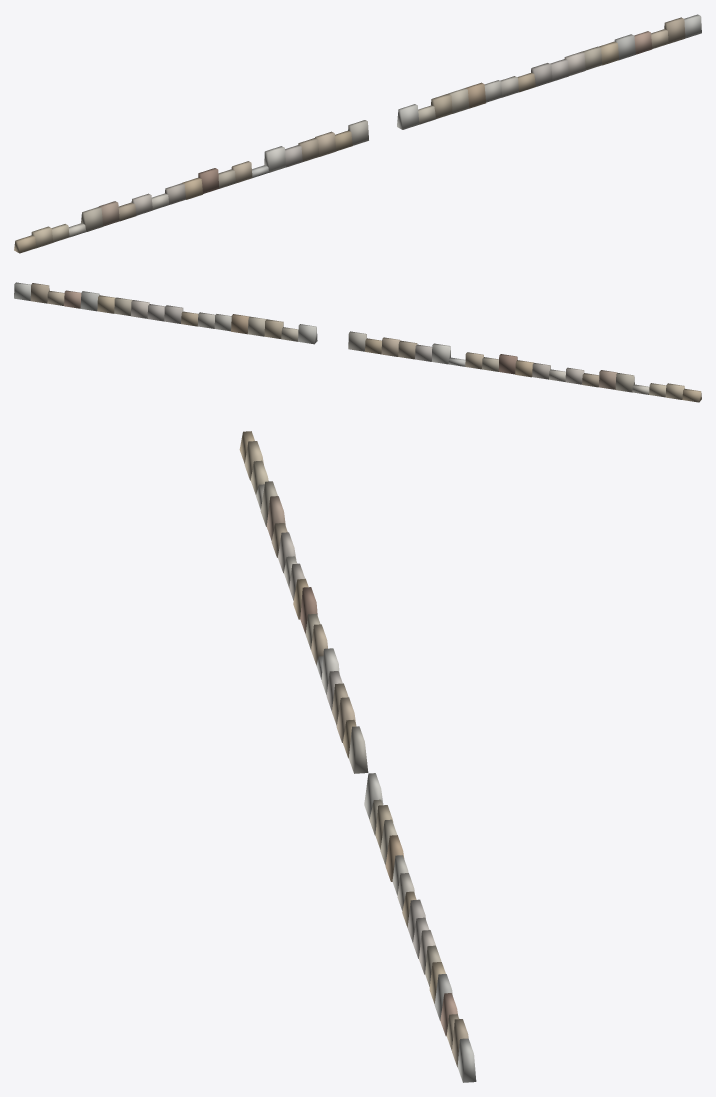
File: farm_12_20_collision.glb
3 renders of one model, top to bottom at view 1: azimuth 30°, elevation 25°; view 2: azimuth 150°, elevation 25°; view 3: azimuth 270°, elevation 25°, orthographic. The views are drawn at different scales.
Parts seen in each view (by area): view 1: geometry_0; view 2: geometry_0; view 3: geometry_0.
Part boxes in pixels (x1,y1,x2,y2): geometry_0: (14, 14, 701, 253); geometry_0: (14, 282, 701, 402); geometry_0: (239, 431, 476, 1082).
Size of the model in its own units: 63.67 by 2.24 by 10.35.
